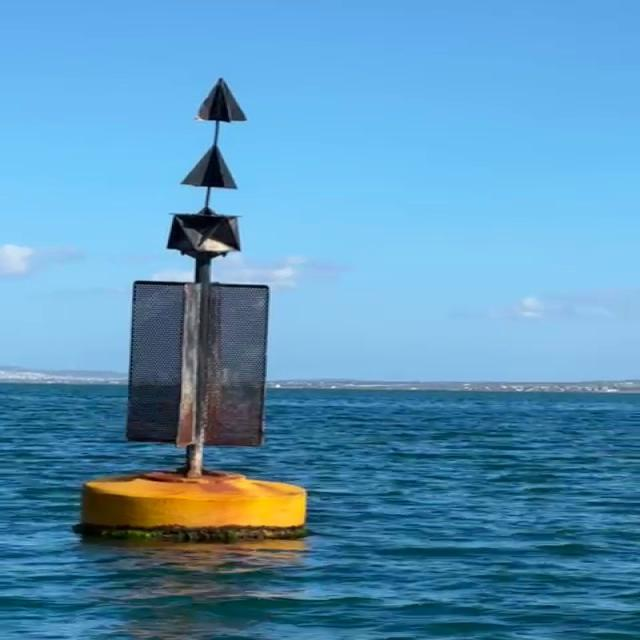marque: (80, 77, 312, 540)
